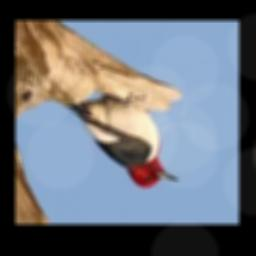Woodpecker: (66, 98, 178, 187)
